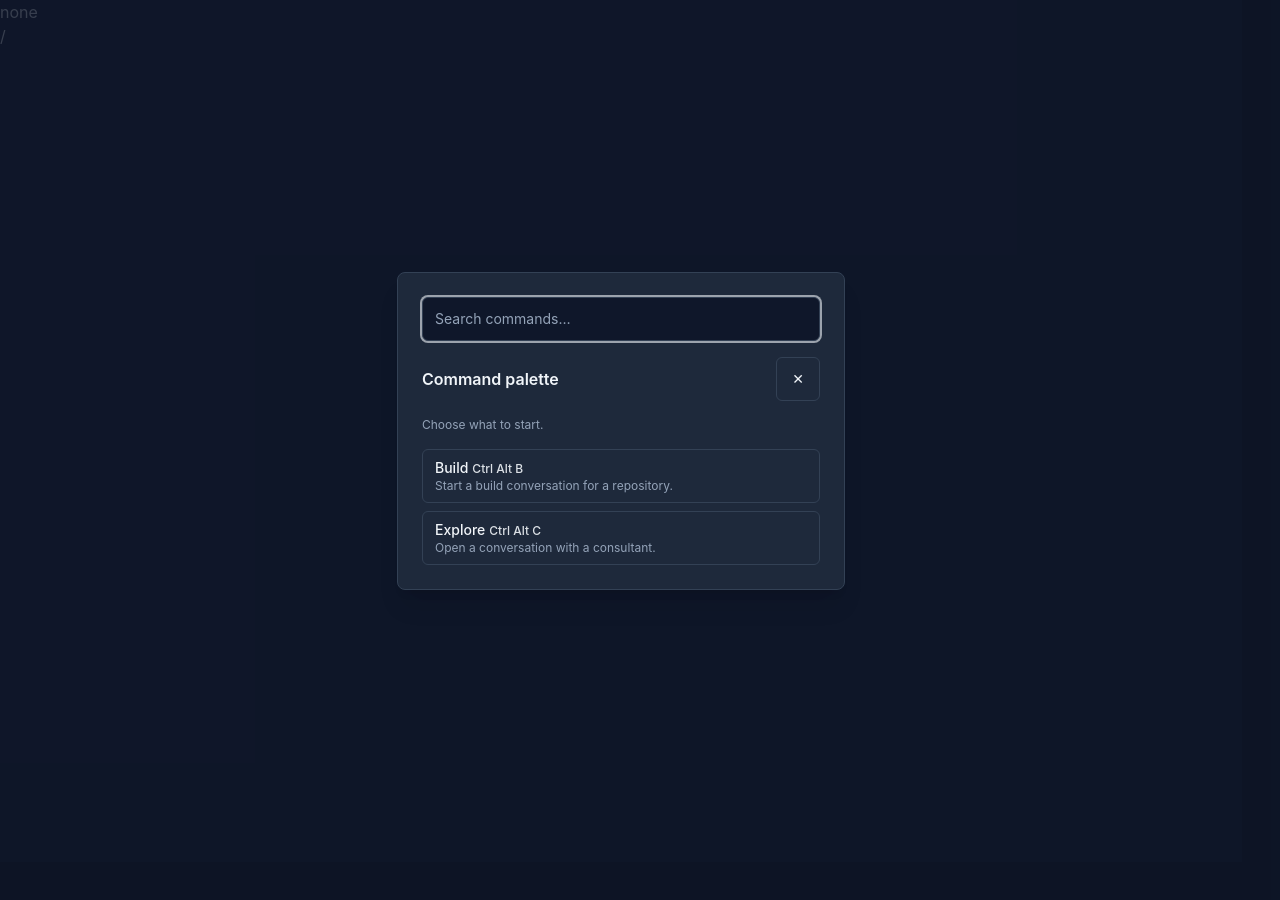
CommandPalette — root step › filters commands by typed text
This screenshot has width=1280, height=900.
Type "buil" into the field with test id "list-chooser-filter" at [621, 319], box [422,297,820,341]
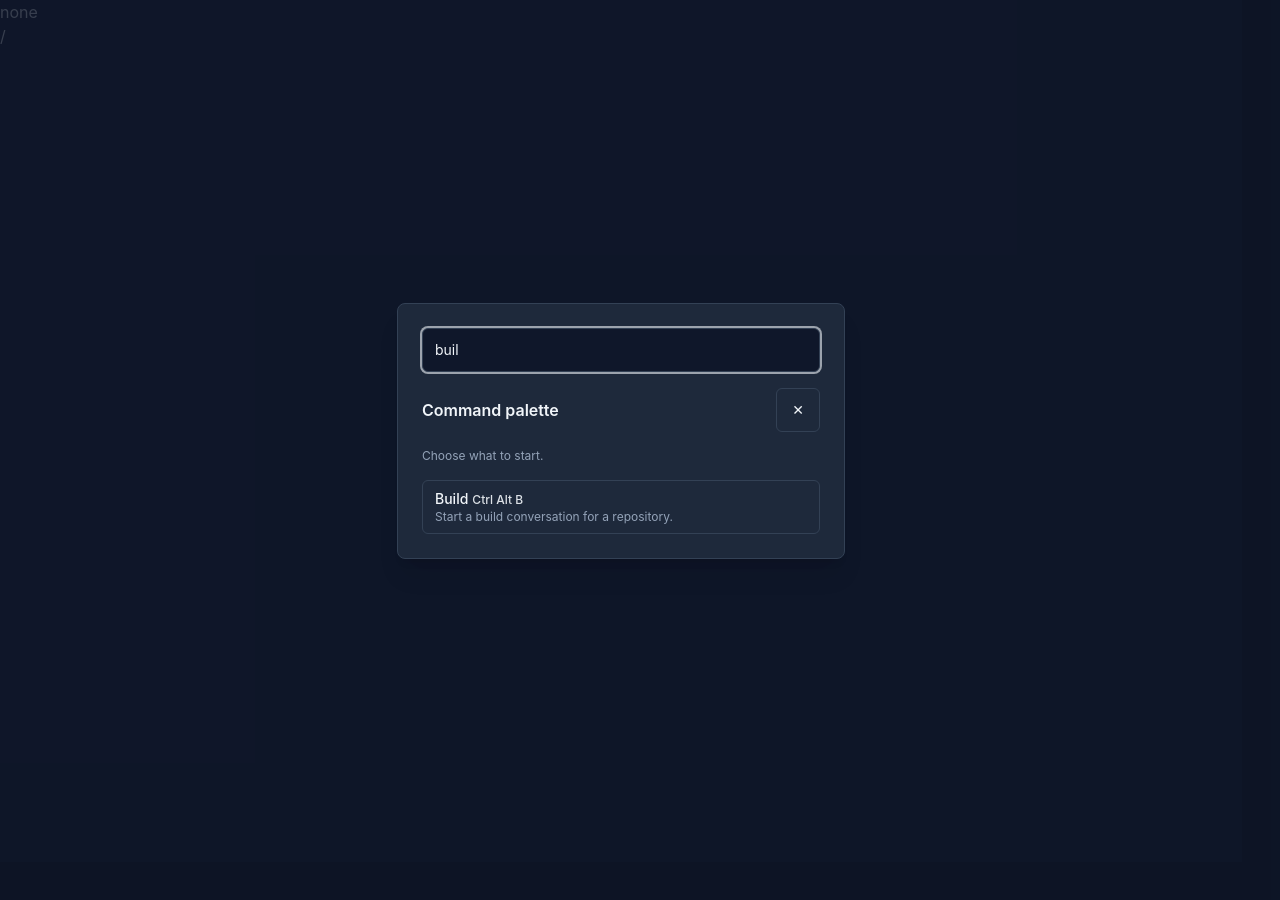
Expected: the button with test id "palette-command-build" is shown, [422,480,820,534]
Now the button with test id "palette-command-explore" is gone
